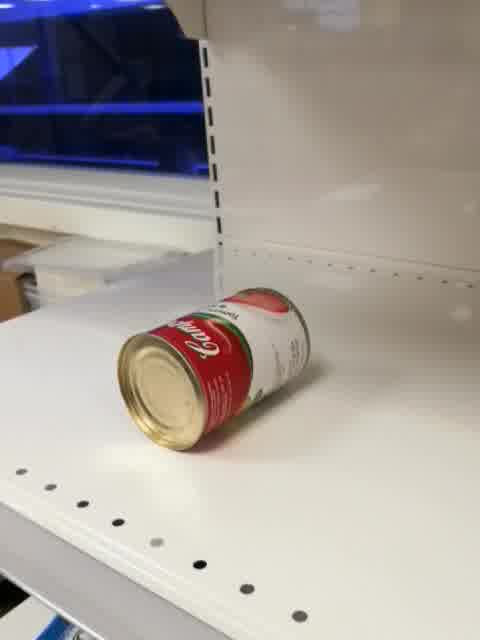tomatosoup: (113, 285, 311, 456)
